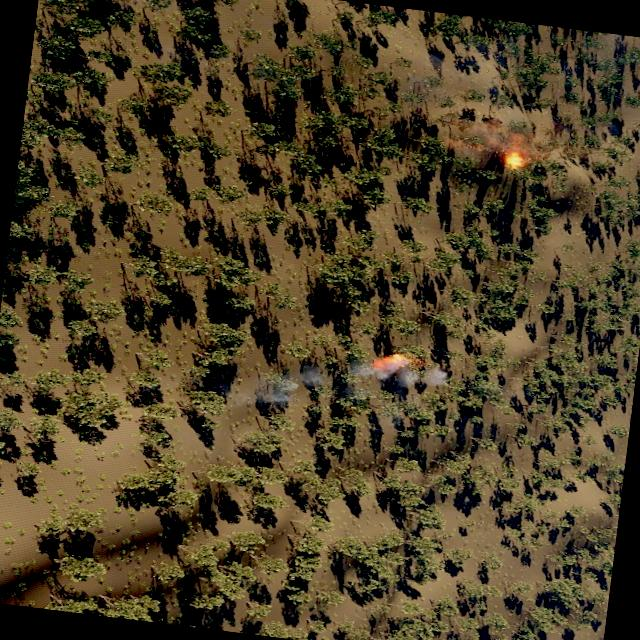fire: (371, 351, 406, 371), (503, 153, 523, 169)
smoke: (256, 347, 448, 430), (459, 101, 546, 159)
